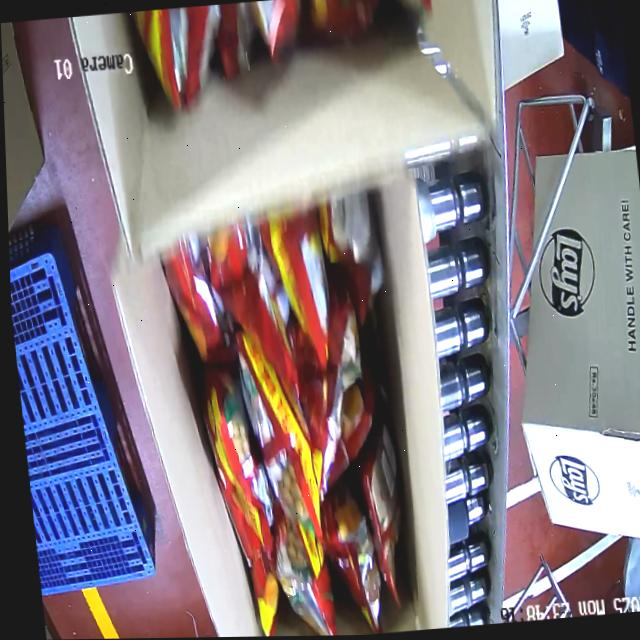MASALA: (186, 184, 425, 637)
